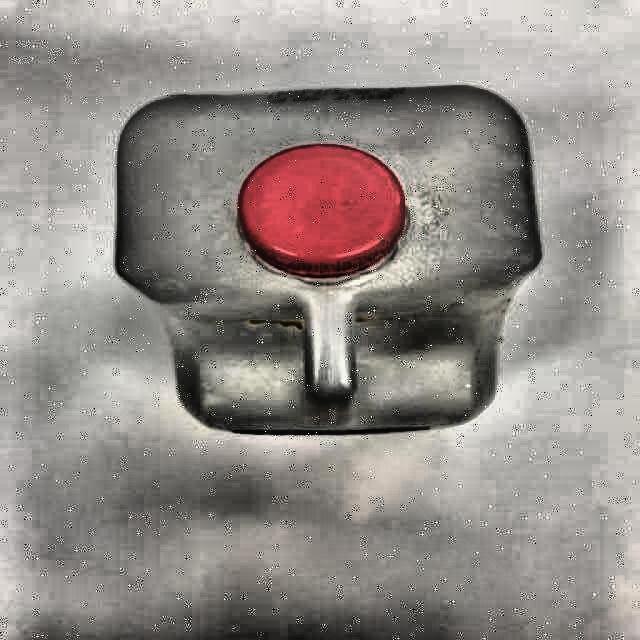plastic: (116, 85, 541, 432)
